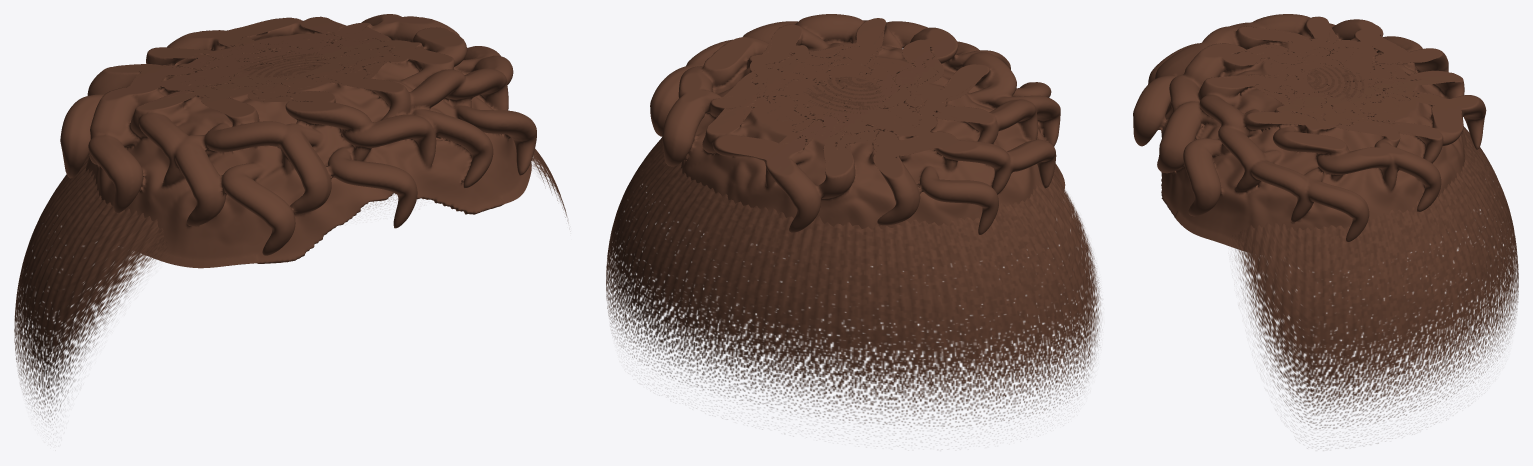
File: Masculine-curly-top-bucket256-hair.glb
3 views of the same model, side by side, from view 1: azimuth 30°, elevation 25°; view 2: azimuth 150°, elevation 25°; view 3: azimuth 270°, elevation 25° (orthographic). The views are drawn at different scales.
Parts seen in each view (by area): view 1: 226 hair / Hair252 / sculpted curl groups, 226 hair / Hair256 / selected B sides; view 2: 226 hair / Hair256 / selected B sides, 226 hair / Hair252 / sculpted curl groups; view 3: 226 hair / Hair252 / sculpted curl groups, 226 hair / Hair256 / selected B sides.
Part boxes in pixels (x1=…): 226 hair / Hair252 / sculpted curl groups: x1=60, y1=14, x2=536, y2=268; 226 hair / Hair256 / selected B sides: x1=14, y1=52, x2=568, y2=421; 226 hair / Hair256 / selected B sides: x1=606, y1=76, x2=1101, y2=433; 226 hair / Hair252 / sculpted curl groups: x1=650, y1=14, x2=1065, y2=234; 226 hair / Hair252 / sculpted curl groups: x1=1133, y1=14, x2=1486, y2=252; 226 hair / Hair256 / selected B sides: x1=1234, y1=66, x2=1518, y2=448.
Bounding box in the file's own units: 0.972 × 0.6147 × 0.7498.
2 materials, 1 textured.
